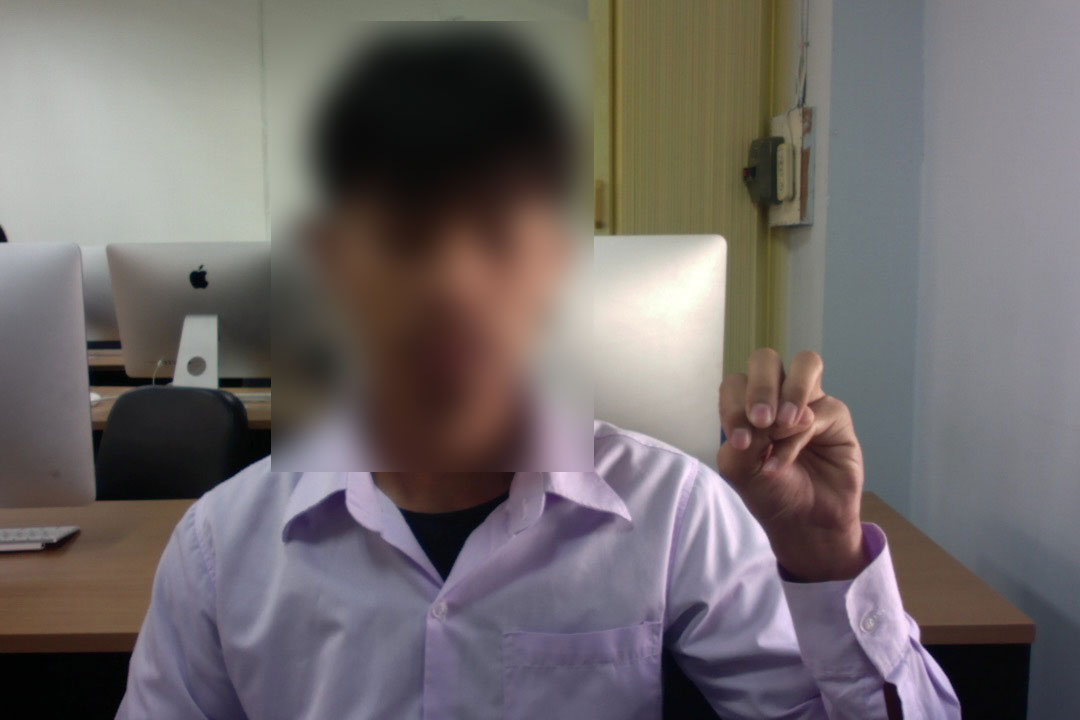mor: (707, 334, 873, 547)
